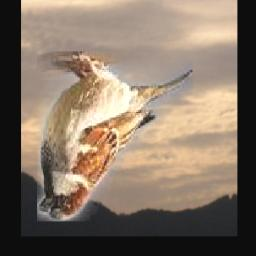Sparrow: (37, 51, 193, 221)
